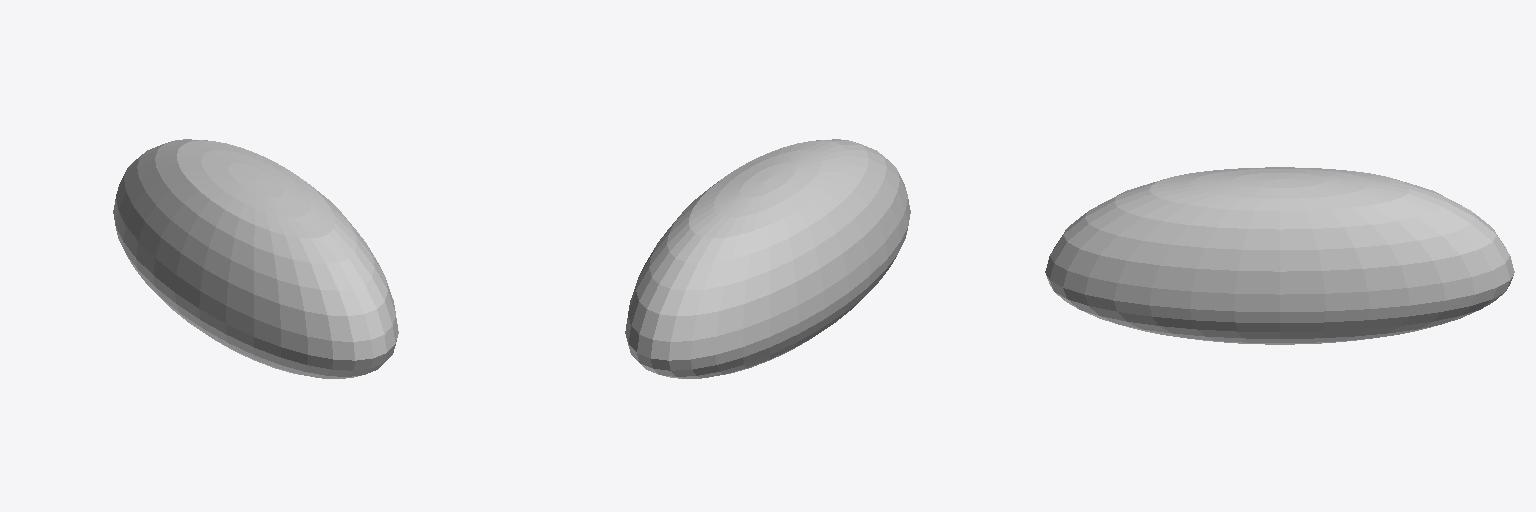
The model's file is slime_deep.obj.
3 renders of one model, left to right at view 1: azimuth 30°, elevation 25°; view 2: azimuth 150°, elevation 25°; view 3: azimuth 270°, elevation 25°, orthographic.
Parts seen in each view (by area): view 1: Mesh_Sphere.004; view 2: Mesh_Sphere.004; view 3: Mesh_Sphere.004.
Part boxes in pixels (x1,y1,x2,y2): Mesh_Sphere.004: (113, 139, 398, 378); Mesh_Sphere.004: (625, 139, 910, 378); Mesh_Sphere.004: (1045, 167, 1514, 344).
Size of the model in its own units: 2 by 1.81 by 5.